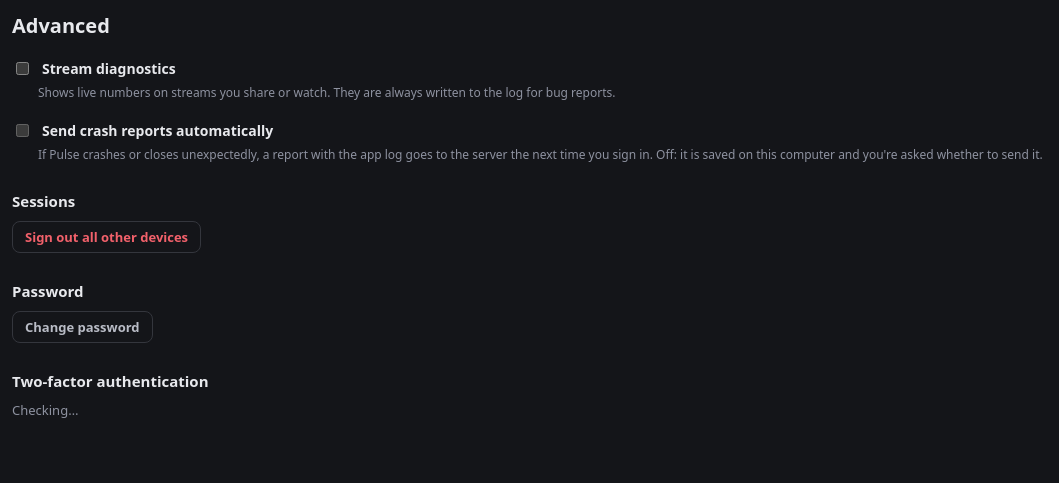
AdvancedSettings: sign out other devices › shows the error when it fails
This screenshot has width=1059, height=483.
Click the button "Sign out all other devices" at (107, 237), box [12, 221, 201, 253]
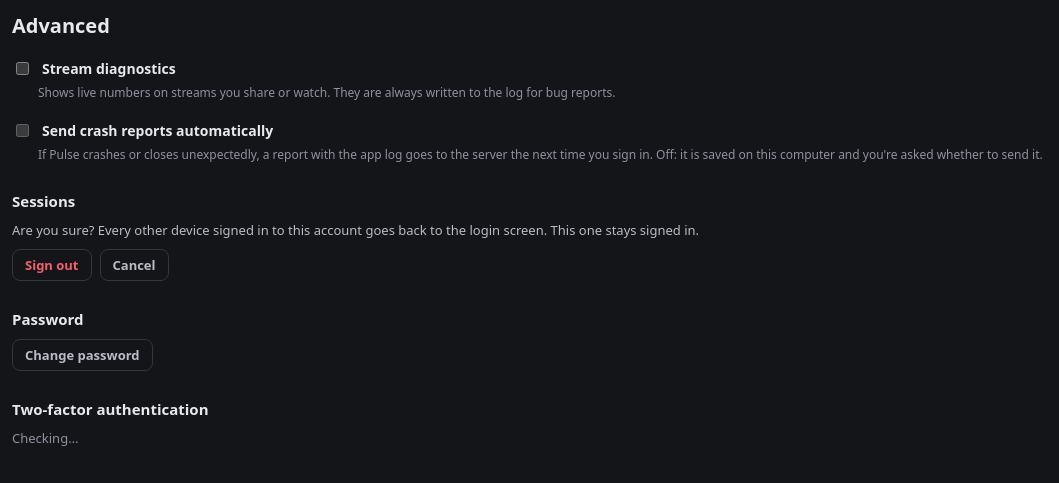
Click the button "Sign out" at (52, 265), box [12, 249, 92, 281]
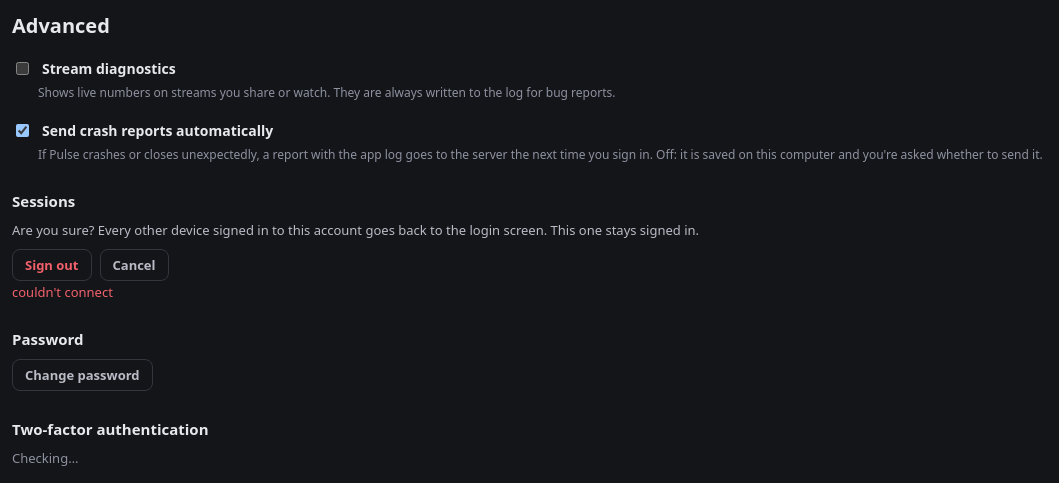
Expected: the message "couldn't connect" is shown, [12, 283, 113, 301]
